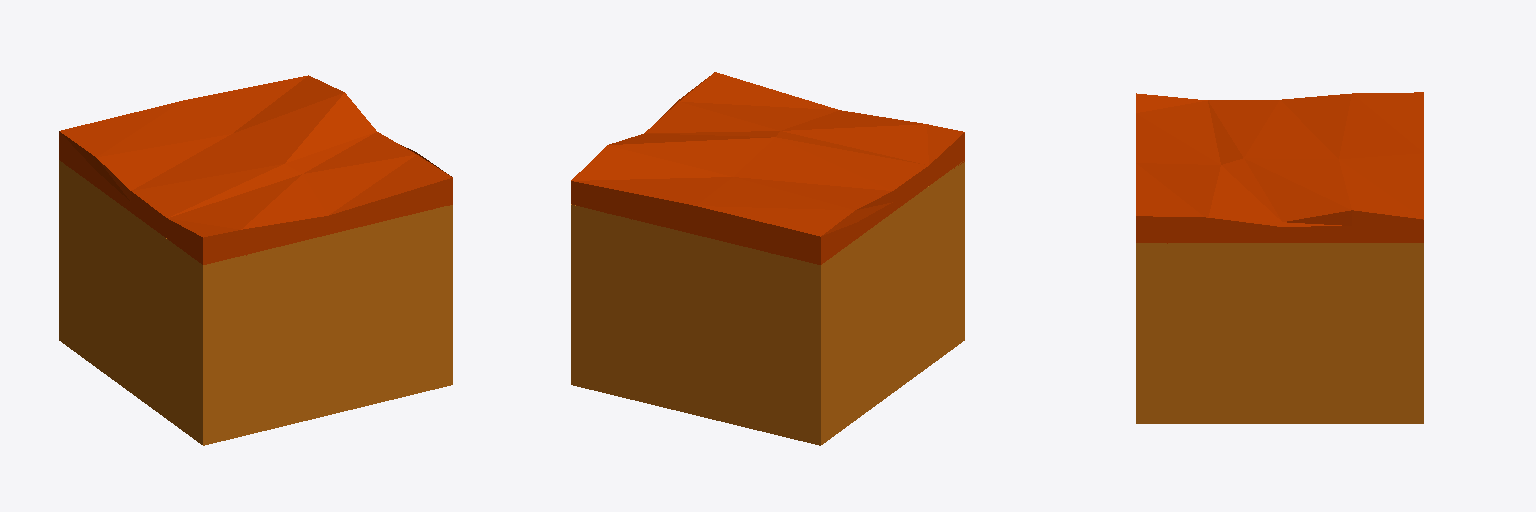
File: grassP8.obj
3 views of the same model, side by side, from view 1: azimuth 30°, elevation 25°; view 2: azimuth 150°, elevation 25°; view 3: azimuth 270°, elevation 25° (orthographic).
Visible parts, largest first — view 1: Cube; view 2: Cube; view 3: Cube.
Boxes of the visible parts, box(x1,y1,x2,y2) form: Cube: box(59, 75, 452, 445); Cube: box(571, 72, 964, 445); Cube: box(1136, 92, 1423, 423).
Bounding box in the file's own units: 159 × 130 × 159.